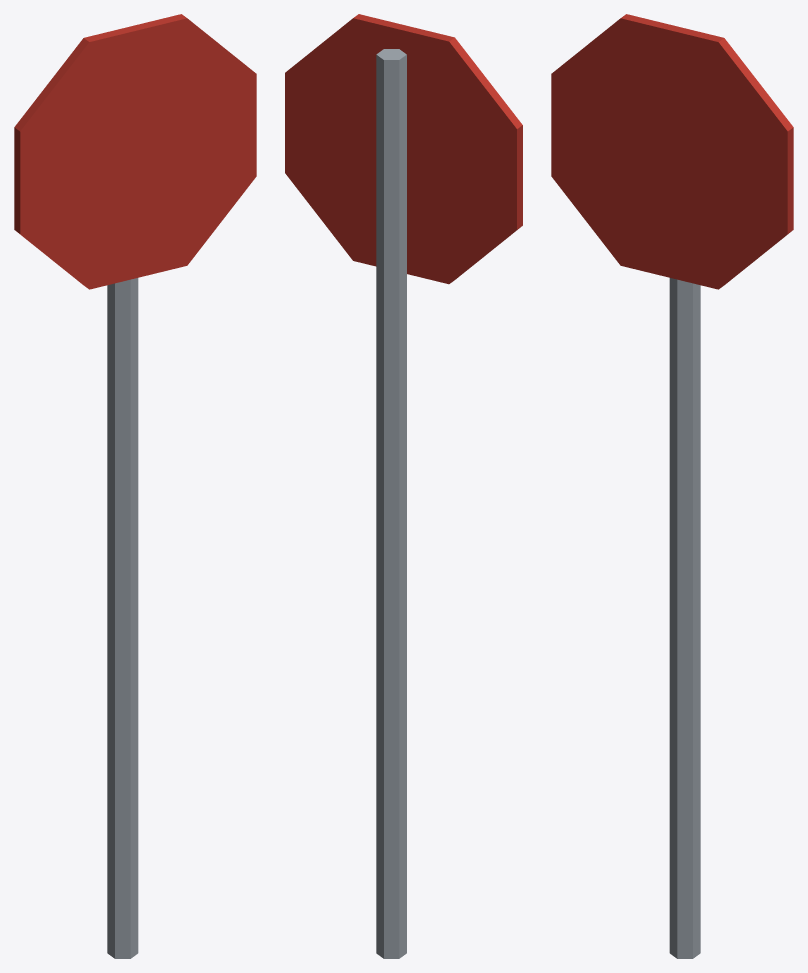
File: Sign_Stop.glb
3 renders of one model, left to right at view 1: azimuth 30°, elevation 25°; view 2: azimuth 150°, elevation 25°; view 3: azimuth 330°, elevation 25°, orthographic.
Visible parts, largest first — view 1: Sign_Stop_Face, Sign_Stop_Metal; view 2: Sign_Stop_Face, Sign_Stop_Metal; view 3: Sign_Stop_Face, Sign_Stop_Metal.
Boxes of the visible parts, x1,y1,x2,y2 form: Sign_Stop_Face: (14,14,256,289); Sign_Stop_Metal: (107,278,138,958); Sign_Stop_Face: (285,14,522,284); Sign_Stop_Metal: (376,49,406,958); Sign_Stop_Face: (551,14,793,289); Sign_Stop_Metal: (669,278,700,958).
Bounding box in the file's own units: 0.7021 × 2.65 × 0.12.
